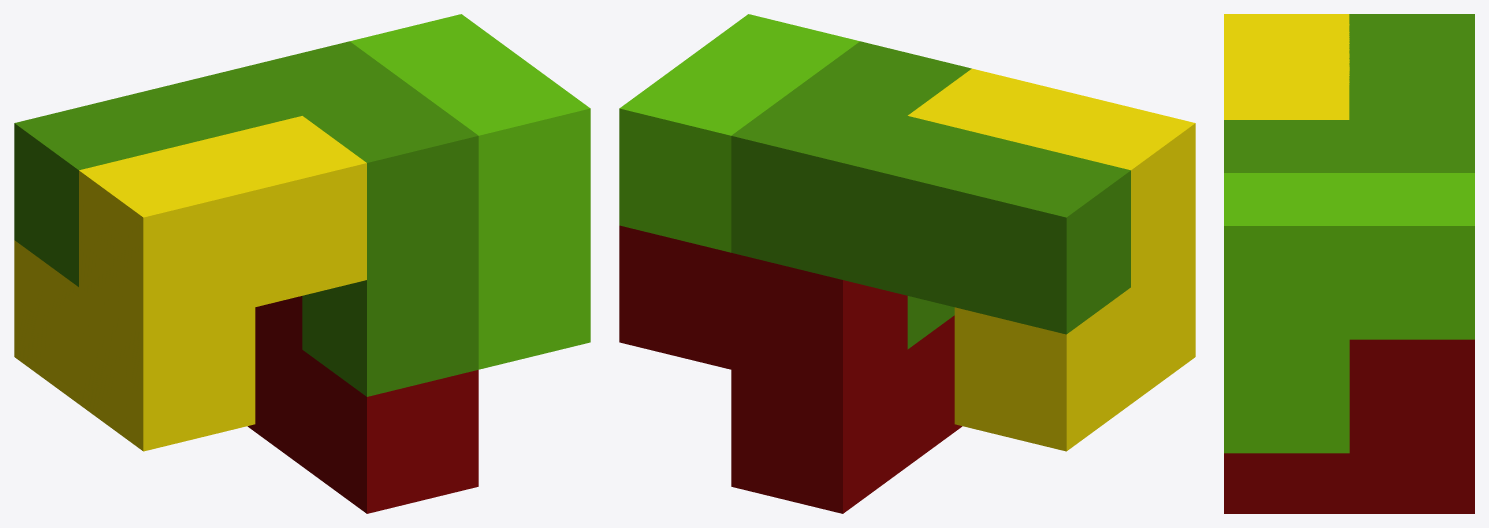
3 renders of one model, left to right at view 1: azimuth 30°, elevation 25°; view 2: azimuth 150°, elevation 25°; view 3: azimuth 270°, elevation 25°, orthographic. The views are drawn at different scales.
Parts seen in each view (by area): view 1: mergedBlocks(Clone); view 2: mergedBlocks(Clone); view 3: mergedBlocks(Clone).
Part boxes in pixels (<box>): mergedBlocks(Clone): <box>14,14,590,513</box>; mergedBlocks(Clone): <box>619,14,1195,513</box>; mergedBlocks(Clone): <box>1224,14,1474,513</box>.
Size of the model in its own units: 4 by 3 by 2.
Materials: 4 (4 with a texture image).
